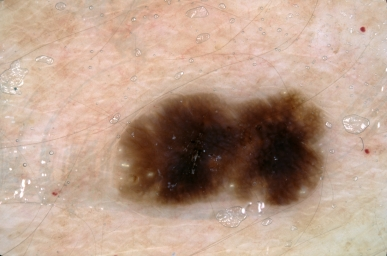seborrheic keratosis: (106, 76, 337, 209)
